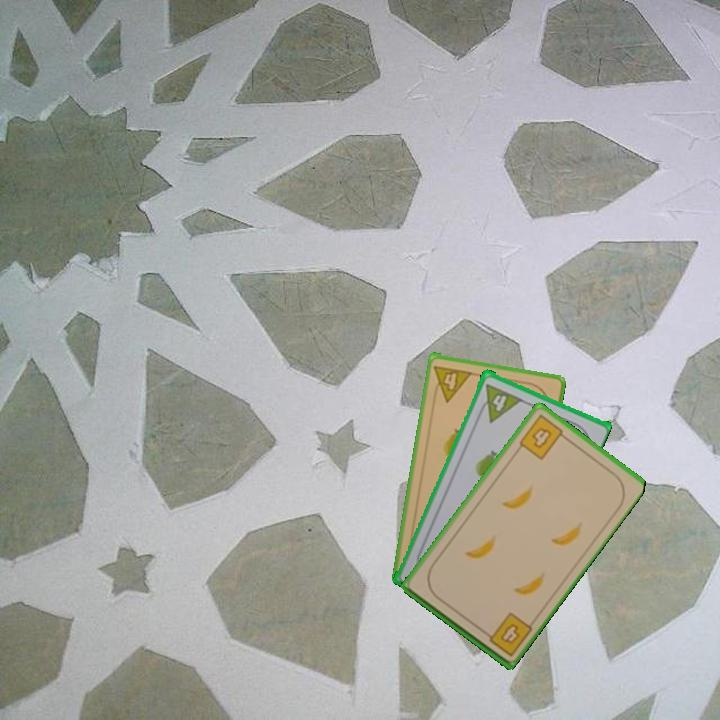4b: (515, 411, 570, 463), (479, 608, 535, 659)
4p: (474, 380, 524, 424), (429, 361, 475, 404)
